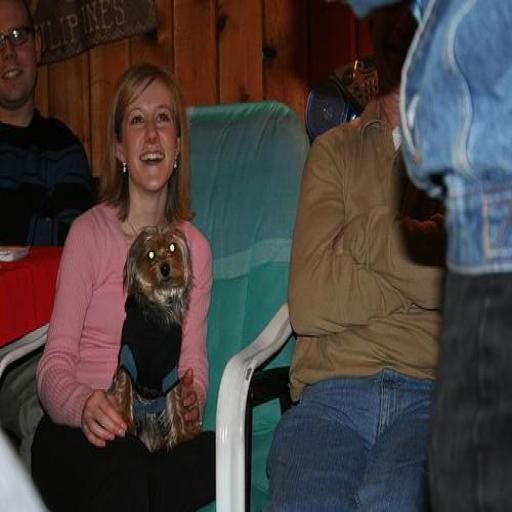dog_face: (128, 225, 189, 318)
